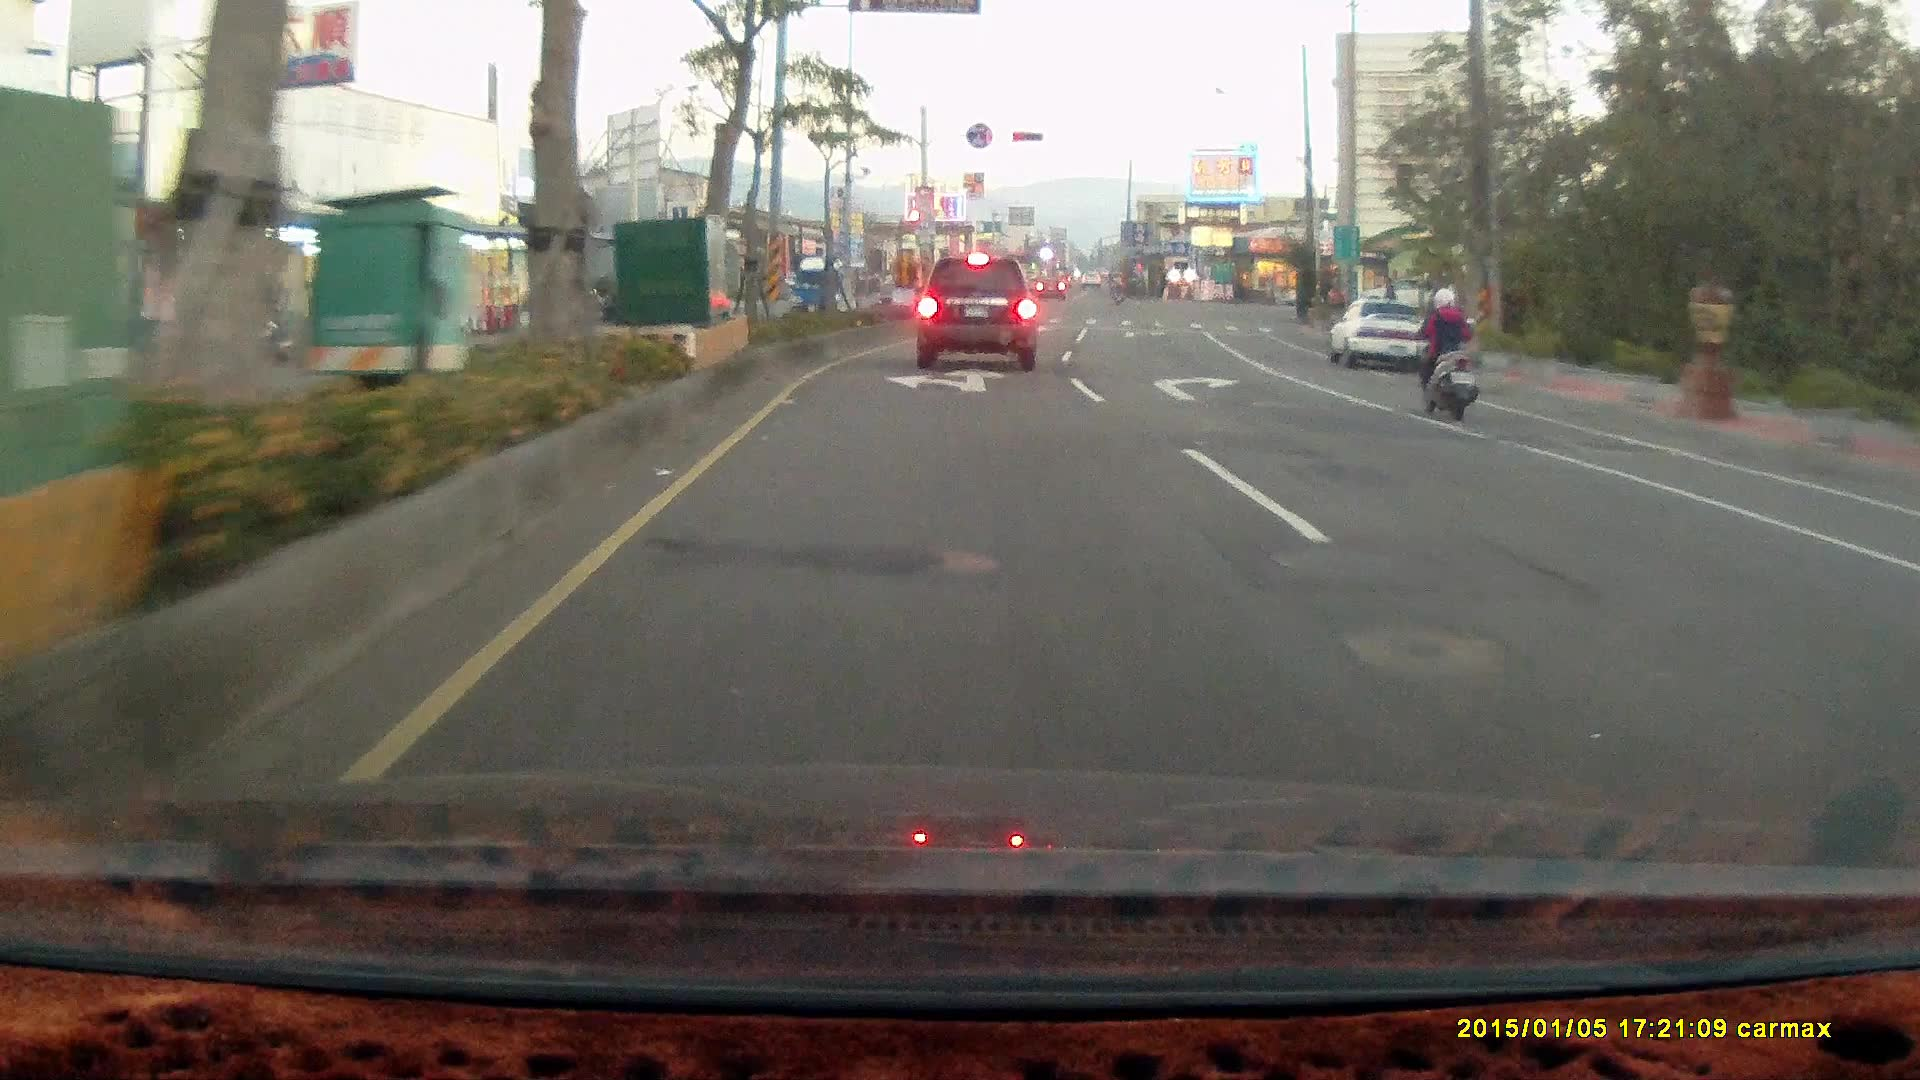rider: (1403, 277, 1482, 416)
vehicle: (915, 254, 1037, 373), (1329, 296, 1439, 373), (1325, 294, 1436, 371), (1896, 493, 1920, 836), (1883, 528, 1920, 690), (1356, 274, 1442, 311)
